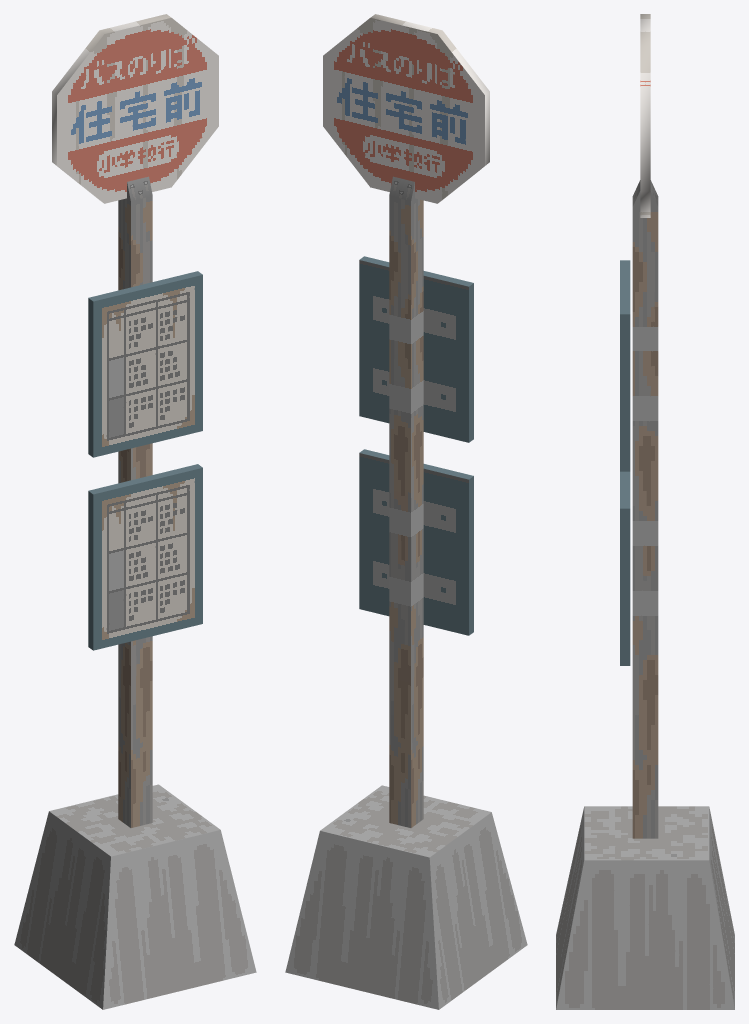
File: 0281_Bus_Stop.glb
3 views of the same model, side by side, from view 1: azimuth 30°, elevation 25°; view 2: azimuth 150°, elevation 25°; view 3: azimuth 270°, elevation 25° (orthographic).
Parts seen in each view (by area): view 1: part_0; view 2: part_0; view 3: part_0.
Part boxes in pixels (box(x1,y1,x2,y2)): part_0: box(14, 14, 256, 1009); part_0: box(285, 14, 527, 1009); part_0: box(556, 14, 734, 1009).
Bounding box in the file's own units: 0.3696 × 2.03 × 0.35.
1 material, 1 textured.
